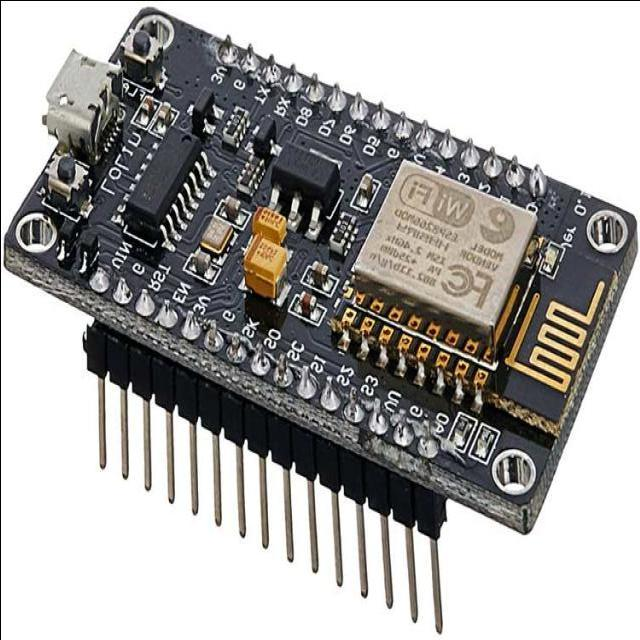Esp8266: (5, 8, 637, 633)
